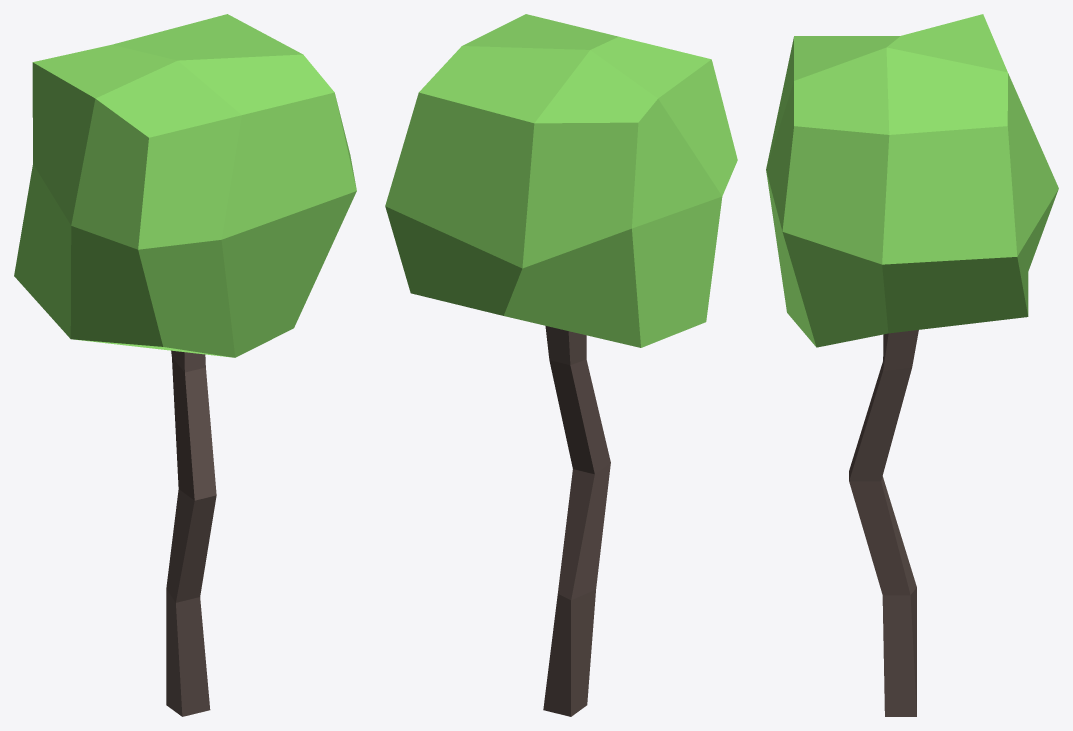
The model's file is tree.fbx.
3 renders of one model, left to right at view 1: azimuth 30°, elevation 25°; view 2: azimuth 150°, elevation 25°; view 3: azimuth 270°, elevation 25°, orthographic.
Visible parts, largest first — view 1: Cube.001, Cube; view 2: Cube.001, Cube; view 3: Cube.001, Cube.
Boxes of the visible parts, x1,y1,x2,y2 form: Cube.001: (14, 14, 356, 357); Cube: (166, 350, 216, 716); Cube.001: (385, 14, 737, 347); Cube: (543, 326, 610, 716); Cube.001: (766, 14, 1058, 347); Cube: (849, 330, 918, 716).
Size of the model in its own units: 624 by 1351 by 549.
